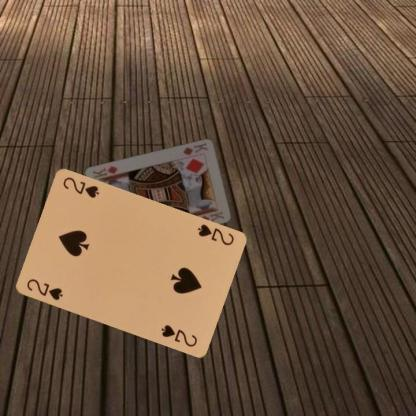2s: (194, 221, 235, 247), (24, 276, 64, 302)
Kd: (180, 140, 209, 156)
